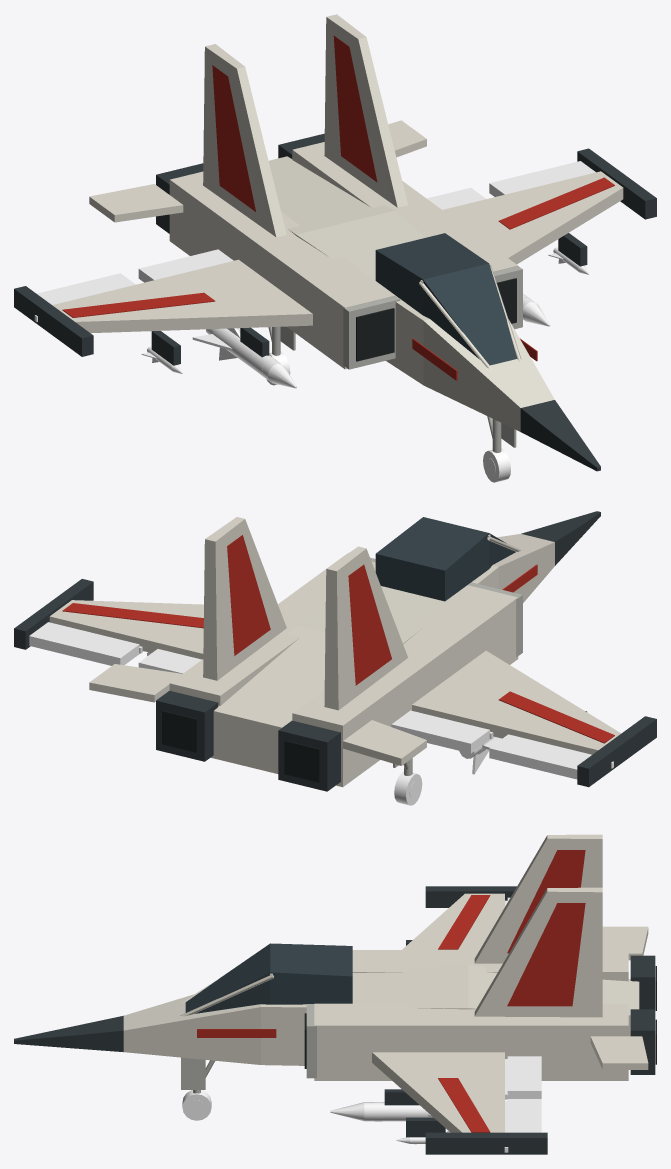
3 views of the same model, one above another, from view 1: azimuth 30°, elevation 25°; view 2: azimuth 150°, elevation 25°; view 3: azimuth 270°, elevation 25° (orthographic). The views are drawn at different scales.
Parts seen in each view (by area): view 1: jet-b-fleet-armor, jet-b-fleet-glass, jet-b-fleet-red, jet-b-fleet-machine, elevator-left-fleet-armor, jet-b-fleet-rubber, jet-b-fleet-edge, store-left-large-painted, aileron-right-painted, flap-left-painted, aileron-left-painted, elevator-right-fleet-armor (+2 smaller); view 2: jet-b-fleet-armor, jet-b-fleet-machine, jet-b-fleet-red, jet-b-fleet-glass, aileron-right-painted, aileron-left-painted, jet-b-fleet-rubber, flap-left-painted, elevator-left-fleet-armor, elevator-right-fleet-armor, flap-right-painted, gear-wheel-left-0-0-painted (+2 smaller); view 3: jet-b-fleet-armor, jet-b-fleet-machine, jet-b-fleet-red, jet-b-fleet-glass, elevator-right-fleet-armor, flap-right-painted, store-right-large-painted, aileron-right-painted, elevator-left-fleet-armor, landing-gear-nose-fleet-edge, jet-b-fleet-edge, gear-wheel-nose-0-0-painted.
Part boxes in pixels (x1,y1,x2,y2): jet-b-fleet-armor: [52, 14, 623, 431]; jet-b-fleet-glass: [375, 233, 517, 365]; jet-b-fleet-red: [62, 35, 614, 380]; jet-b-fleet-machine: [14, 133, 656, 471]; elevator-left-fleet-armor: [89, 184, 183, 222]; jet-b-fleet-rubber: [356, 278, 516, 361]; jet-b-fleet-edge: [343, 266, 522, 369]; store-left-large-painted: [192, 328, 296, 388]; aileron-right-painted: [489, 161, 595, 196]; flap-left-painted: [138, 249, 233, 282]; aileron-left-painted: [34, 273, 135, 321]; elevator-right-fleet-armor: [388, 120, 426, 157]; jet-b-fleet-armor: [49, 517, 621, 787]; jet-b-fleet-machine: [14, 511, 656, 791]; jet-b-fleet-red: [62, 535, 614, 743]; jet-b-fleet-glass: [375, 517, 515, 601]; aileron-right-painted: [29, 622, 142, 665]; aileron-left-painted: [489, 734, 613, 779]; jet-b-fleet-rubber: [162, 710, 319, 782]; flap-left-painted: [391, 710, 493, 753]; elevator-left-fleet-armor: [343, 720, 426, 765]; elevator-right-fleet-armor: [89, 664, 181, 702]; flap-right-painted: [138, 649, 201, 673]; gear-wheel-left-0-0-painted: [394, 771, 422, 805]; jet-b-fleet-armor: [123, 834, 639, 1132]; jet-b-fleet-machine: [14, 886, 655, 1154]; jet-b-fleet-red: [197, 850, 585, 1132]; jet-b-fleet-glass: [185, 943, 352, 1013]; elevator-right-fleet-armor: [590, 1036, 648, 1069]; flap-right-painted: [505, 1056, 541, 1099]; store-right-large-painted: [330, 1102, 433, 1121]; aileron-right-painted: [504, 1099, 541, 1152]; elevator-left-fleet-armor: [602, 926, 648, 960]; landing-gear-nose-fleet-edge: [181, 1057, 214, 1093]; jet-b-fleet-edge: [306, 1004, 316, 1078]; gear-wheel-nose-0-0-painted: [182, 1090, 211, 1120].
Bounding box in the file's own units: 50.89 × 23.94 × 54.74.
